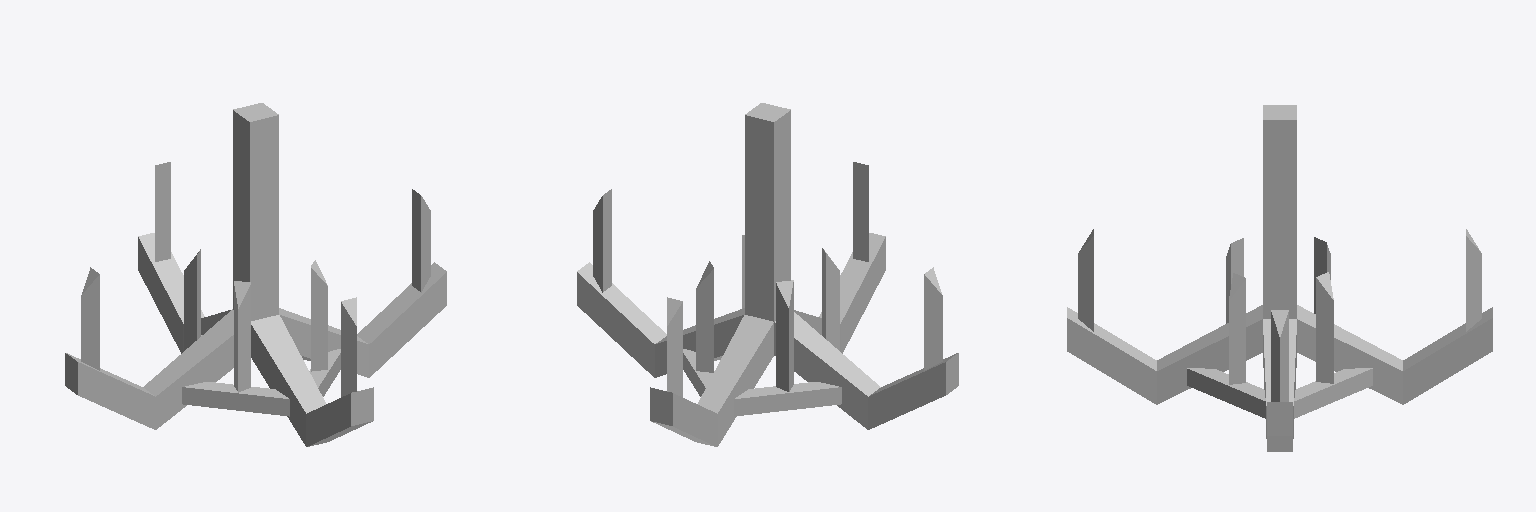
The model's file is chandelier.obj.
The picture shows the model from 3 angles: view 1: azimuth 30°, elevation 25°; view 2: azimuth 150°, elevation 25°; view 3: azimuth 270°, elevation 25°; orthographic projection.
Parts seen in each view (by area): view 1: chandelier_Cube.001; view 2: chandelier_Cube.001; view 3: chandelier_Cube.001.
Boxes of the visible parts, x1,y1,x2,y2 form: chandelier_Cube.001: [65, 103, 446, 446]; chandelier_Cube.001: [577, 103, 958, 446]; chandelier_Cube.001: [1067, 105, 1492, 451].
Size of the model in its own units: 1.79 by 1.33 by 1.79.